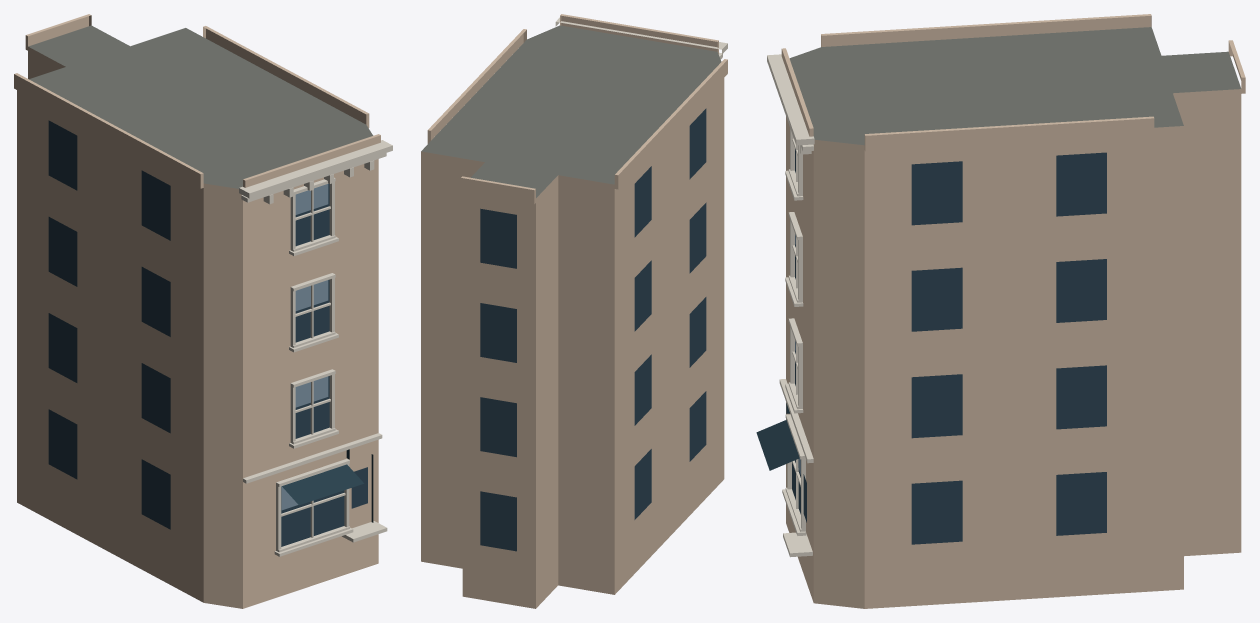
The picture shows the model from 3 angles, left to right: view 1: azimuth 30°, elevation 25°; view 2: azimuth 150°, elevation 25°; view 3: azimuth 270°, elevation 25°; orthographic projection. The views are drawn at different scales.
Visible parts, largest first — view 1: Footprint 0 / surface 2, Footprint 0 / surface 1, Inset glazing, Cornices and window frames, Facade bay volumes, Sky reflection panels, Storefronts and doors; view 2: Footprint 0 / surface 2, Footprint 0 / surface 1, Inset glazing, Facade bay volumes, Cornices and window frames; view 3: Footprint 0 / surface 2, Footprint 0 / surface 1, Inset glazing, Facade bay volumes, Cornices and window frames, Storefronts and doors.
Boxes of the visible parts, x1,y1,x2,y2 form: Footprint 0 / surface 2: (17, 46, 378, 608); Footprint 0 / surface 1: (28, 25, 373, 188); Inset glazing: (48, 120, 367, 546); Cornices and window frames: (239, 140, 392, 556); Facade bay volumes: (14, 14, 380, 188); Sky reflection panels: (281, 184, 328, 510); Storefronts and doors: (282, 449, 373, 522); Footprint 0 / surface 2: (421, 78, 724, 608); Footprint 0 / surface 1: (421, 25, 721, 197); Inset glazing: (480, 108, 706, 551); Facade bay volumes: (427, 14, 727, 204); Cornices and window frames: (555, 17, 727, 59); Footprint 0 / surface 2: (786, 89, 1241, 608); Footprint 0 / surface 1: (789, 27, 1241, 145); Inset glazing: (792, 149, 1106, 544); Facade bay volumes: (781, 14, 1245, 151); Cornices and window frames: (767, 54, 814, 557); Storefronts and doors: (756, 403, 799, 470).
Size of the model in its own units: 8.14 by 14.79 by 13.81.
